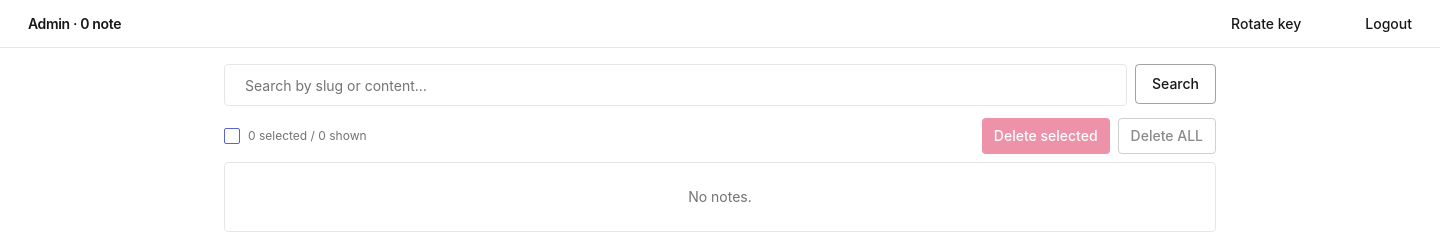
Test case: AdminPanel session request ownership › ignores an older list response that completes after a newer search
The image size is (1440, 249).
expect the heading "Admin · 0 note" is shown: met, box [28,13,121,34]
expect the form with placeholder "Search by slug or content" is shown: met, box [224,64,1216,106]
Type "first" into the field with placeholder "Search by slug or content…".
click(676, 85); type("first")  # box [233,65,1118,105]
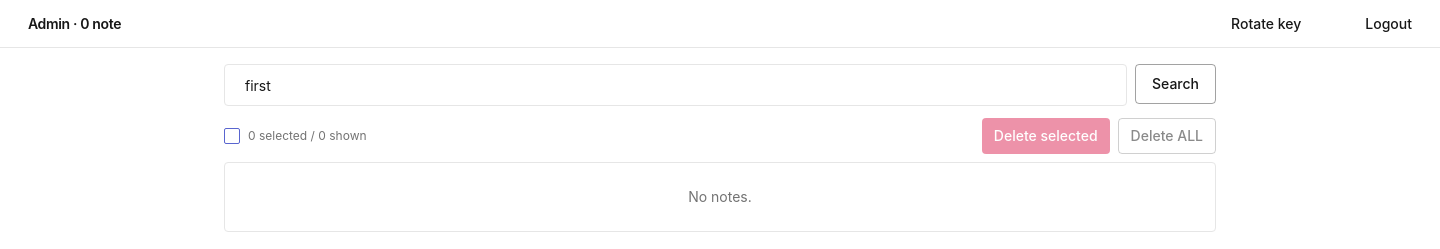
Submit the form with placeholder "Search by slug or content", box [224,64,1216,106]
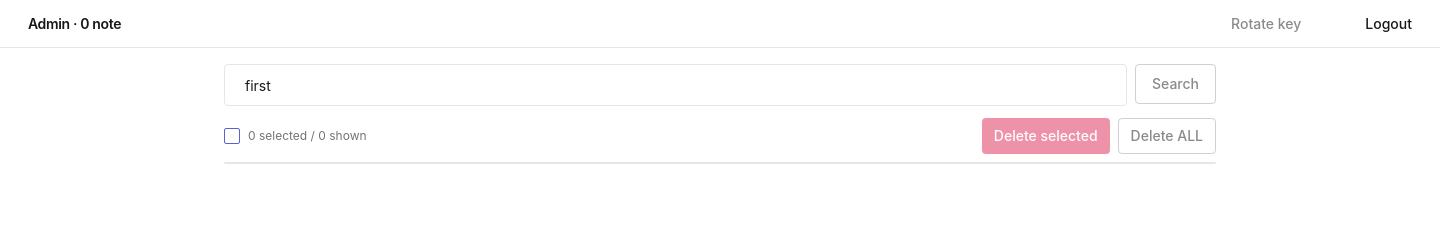
Replace the text in the field with placeholder "Search by slug or content…" with "second" at (676, 85), box [233,65,1118,105]
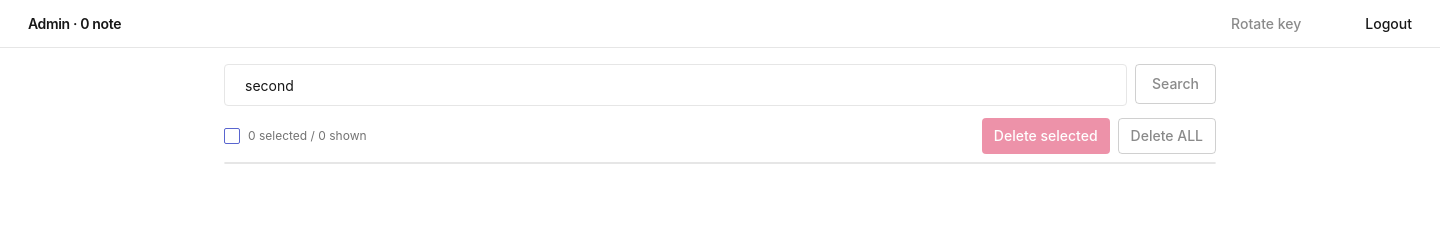
Submit the form with placeholder "Search by slug or content", box [224,64,1216,106]
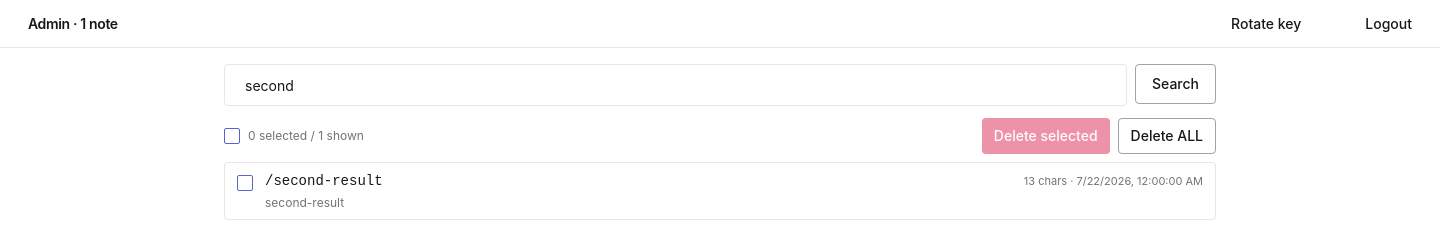
expect the link "/second-result" is shown: met, box [265,171,383,191]
